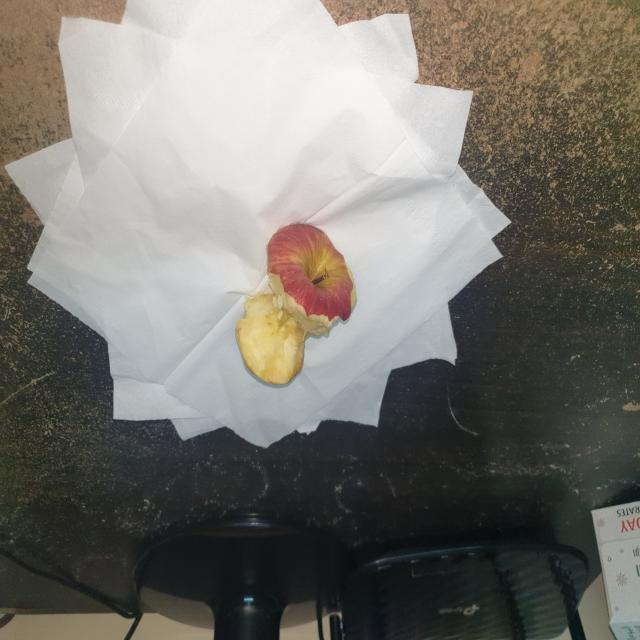apple: (232, 216, 356, 392)
